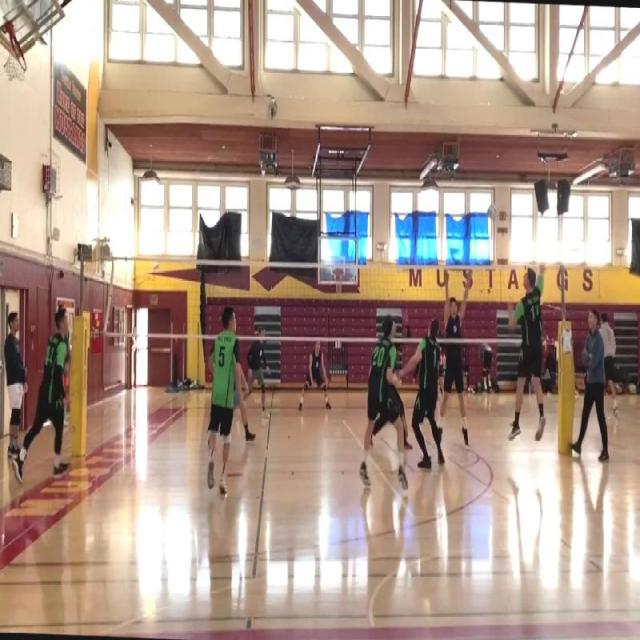volleyball: (488, 204, 497, 219)
